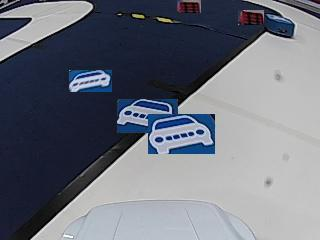prop: (267, 16, 294, 37)
